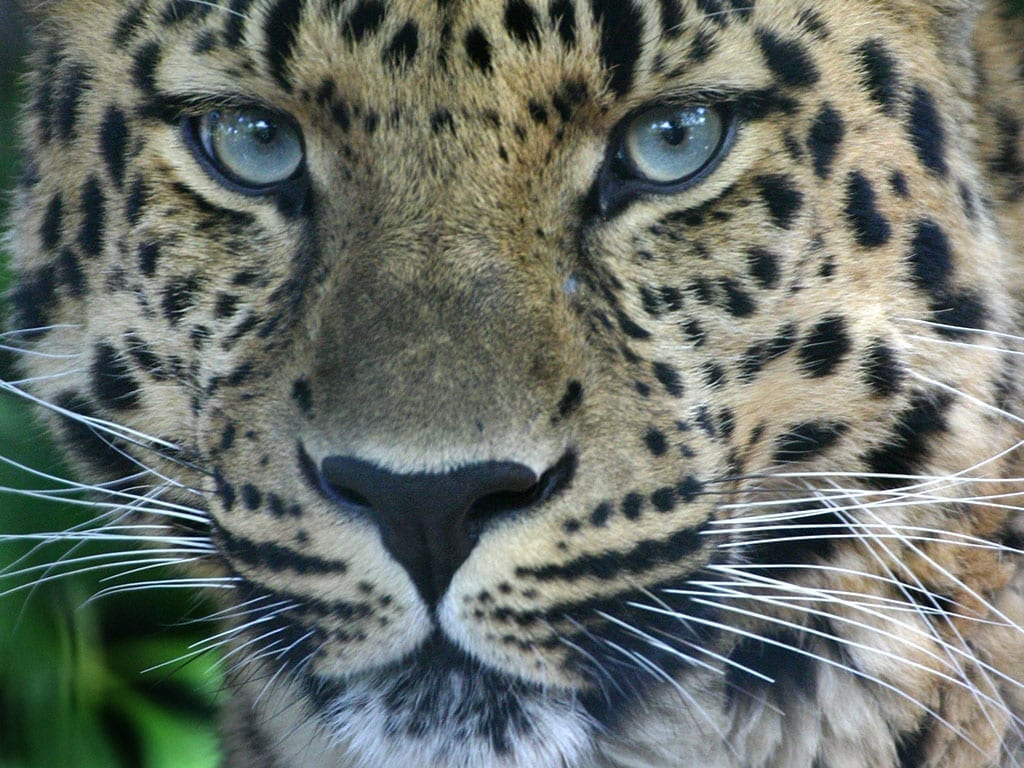amur_leopard: (79, 2, 908, 701)
